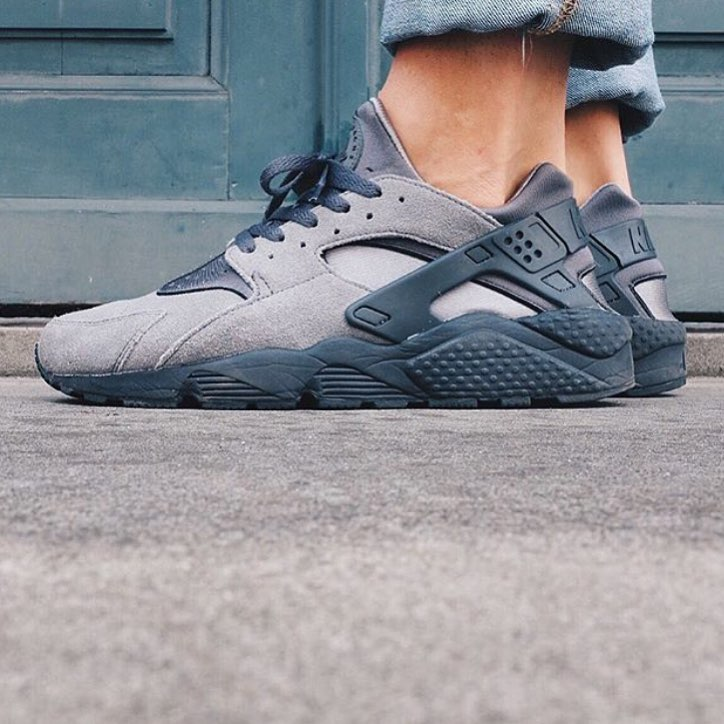sneaker: (10, 9, 657, 440), (549, 68, 696, 406)
